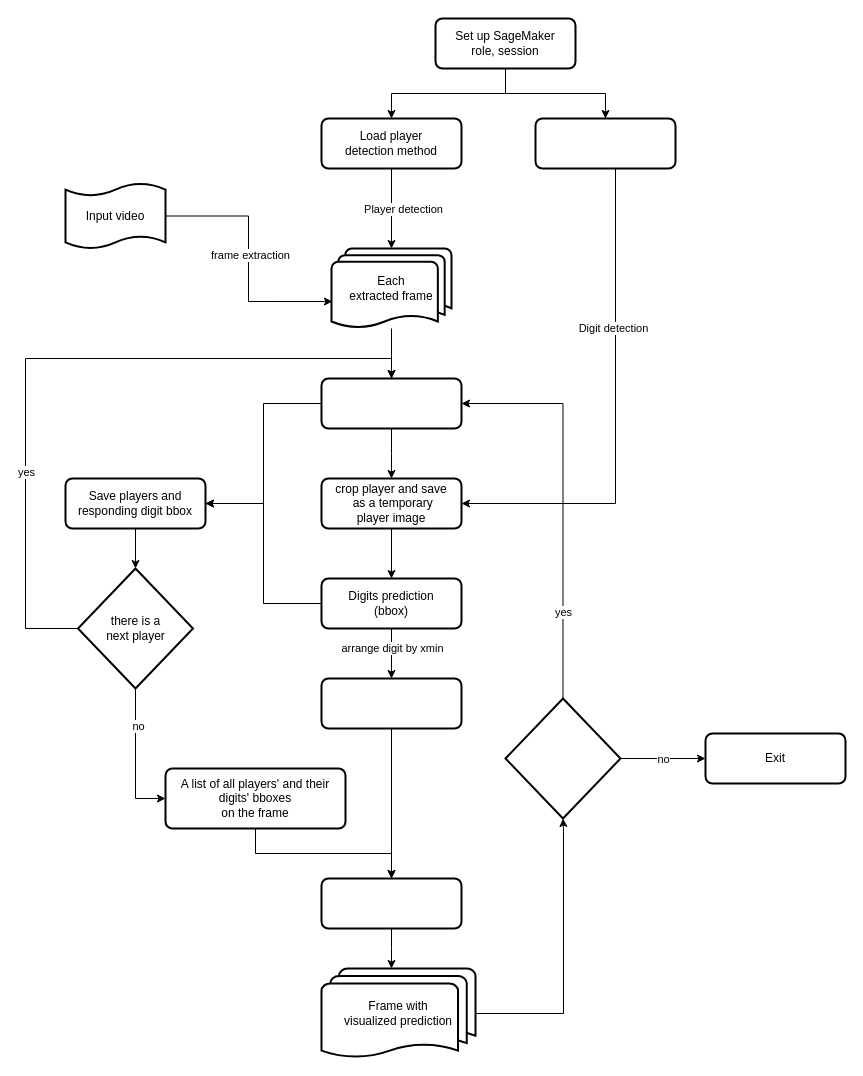
Image size: 863x1076. Some labels were removed from this diagram. The shapes that lost their labels are listed below. From the top down, each one's centre as x and y in pixels, then its label:
At (x=605, y=143): "Load digit detection method".
At (x=391, y=403): "Players prediction (bbox)".
At (x=391, y=703): "Predicted Number".
At (x=562, y=758): "there is a next frame".
At (x=391, y=903): "Visualization bbox and number".
